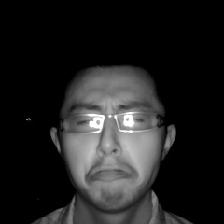sad: (38, 54, 181, 214)
